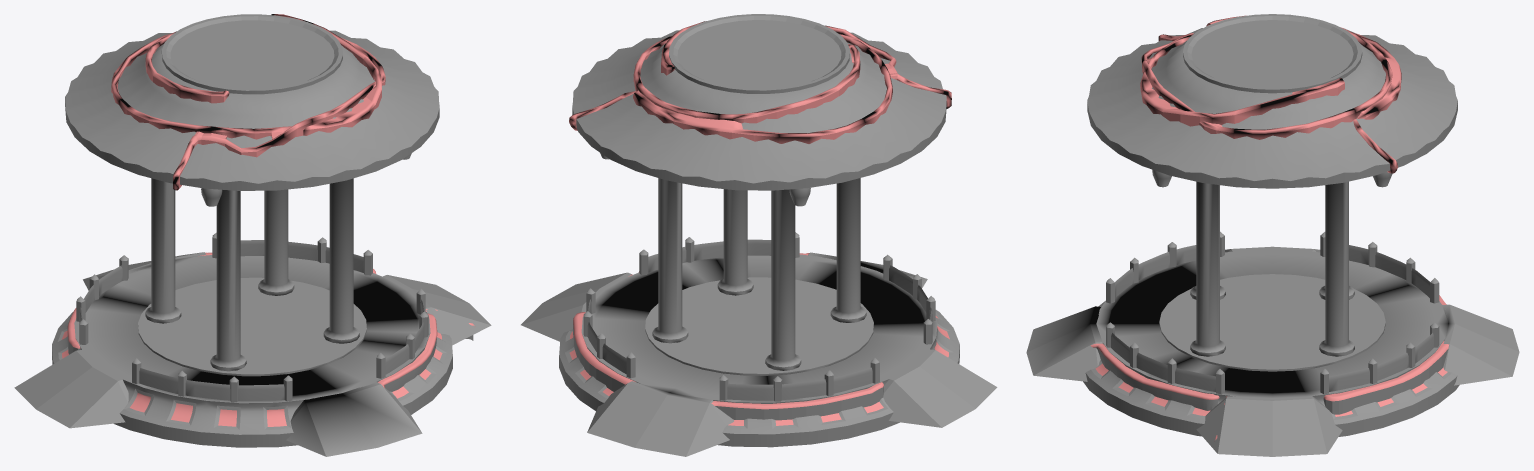
The model's file is COL_SM_ENV_KNVLLG03_Yagura_Night.gltf.
The picture shows the model from 3 angles, left to right: view 1: azimuth 30°, elevation 25°; view 2: azimuth 150°, elevation 25°; view 3: azimuth 270°, elevation 25°; orthographic projection.
Visible parts, largest first — view 1: COL_SM_ENV_KNVLLG03_Yagura_Night; view 2: COL_SM_ENV_KNVLLG03_Yagura_Night; view 3: COL_SM_ENV_KNVLLG03_Yagura_Night.
Part boxes in pixels (x1,y1,x2,y2): COL_SM_ENV_KNVLLG03_Yagura_Night: (14,14,491,456); COL_SM_ENV_KNVLLG03_Yagura_Night: (521,14,997,456); COL_SM_ENV_KNVLLG03_Yagura_Night: (1026,14,1519,456).
Size of the model in its own units: 31.58 by 21.82 by 31.48.
